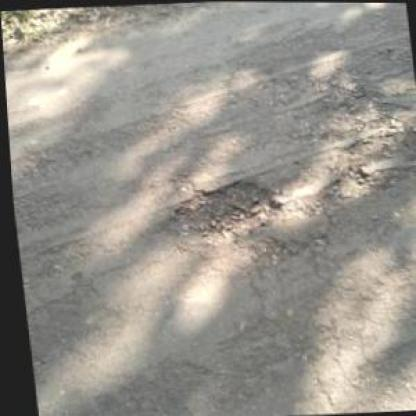pothole: (158, 175, 283, 241)
